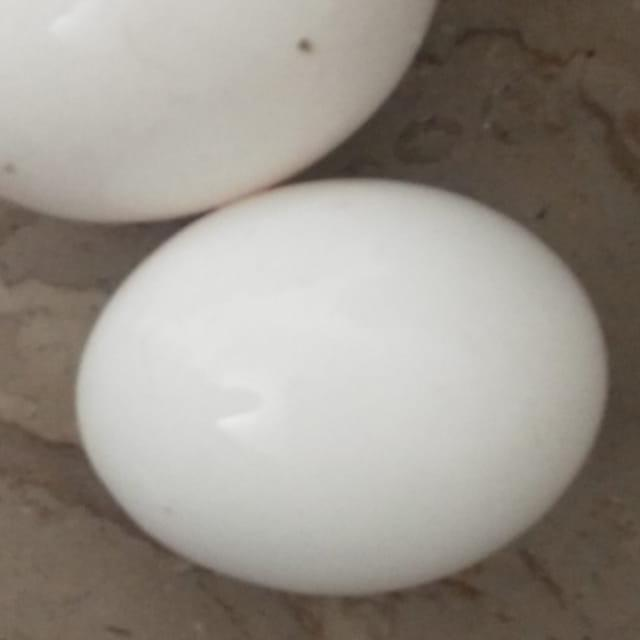egg: (71, 173, 611, 599), (0, 0, 449, 226)
